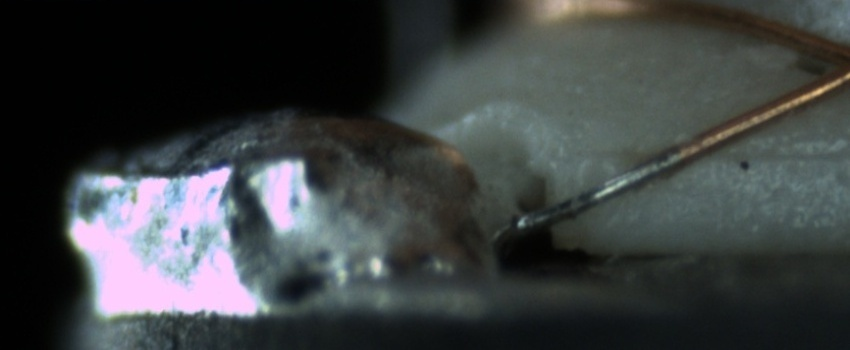CL: (798, 14, 850, 106)
DL: (617, 126, 849, 181)
TS: (512, 148, 683, 232)
